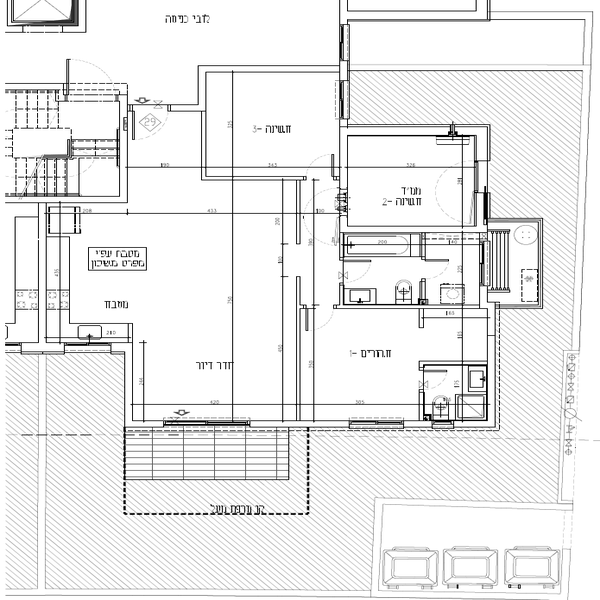door: (54, 49, 115, 103)
room: (187, 48, 333, 434), (330, 223, 503, 443), (6, 188, 154, 362), (337, 126, 494, 235), (9, 82, 149, 194)
wall: (105, 335, 147, 437), (32, 197, 56, 357), (476, 299, 504, 434), (334, 217, 491, 237), (110, 79, 133, 209), (193, 57, 334, 78), (339, 124, 496, 142), (7, 188, 124, 211), (336, 297, 476, 316), (471, 120, 497, 158), (190, 68, 210, 116)
window: (159, 407, 248, 432), (341, 412, 407, 434), (57, 335, 114, 360), (334, 80, 354, 124), (336, 20, 353, 63), (477, 239, 495, 279), (433, 417, 454, 433)
